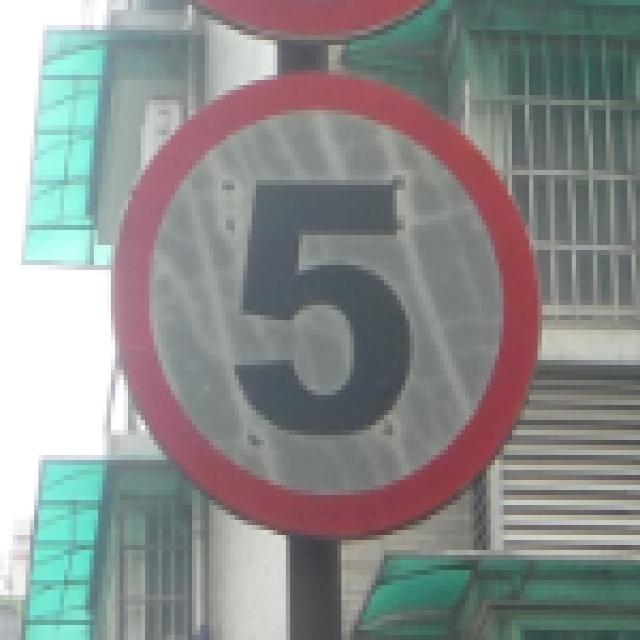Speed: (97, 56, 568, 558)
